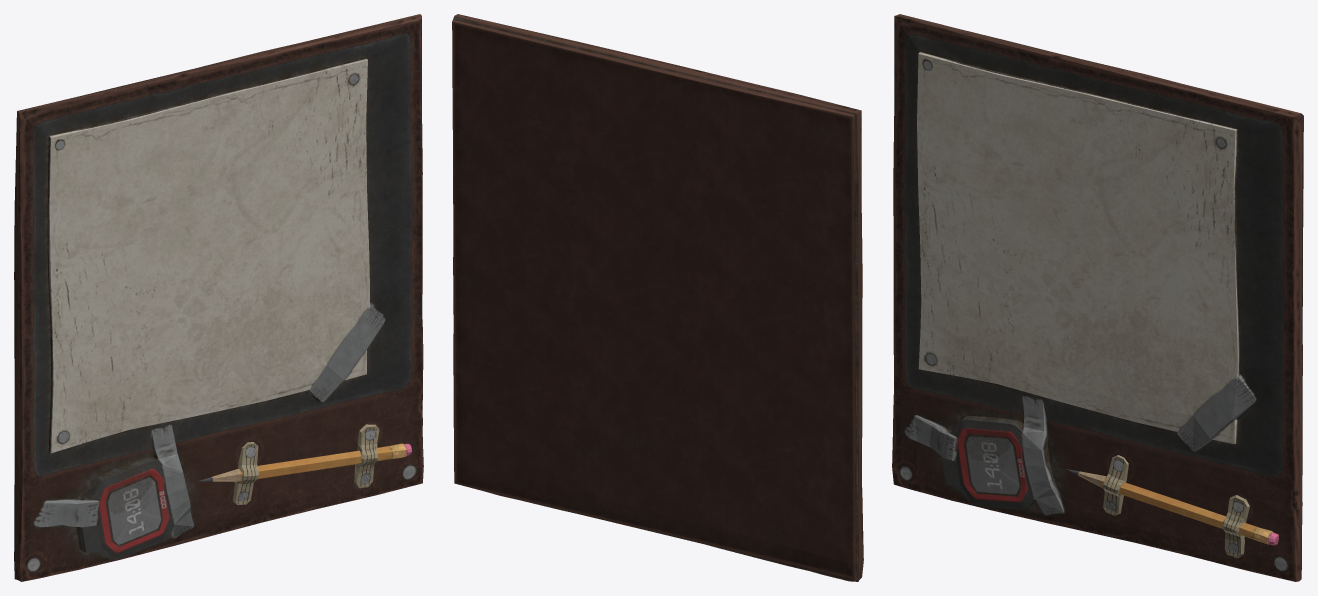
3 views of the same model, side by side, from view 1: azimuth 30°, elevation 25°; view 2: azimuth 150°, elevation 25°; view 3: azimuth 330°, elevation 25° (orthographic).
Visible parts, largest first — view 1: Object_0; view 2: Object_0; view 3: Object_0.
Part boxes in pixels (left/top/right/bottom): Object_0: left=14, top=14, right=423, bottom=581; Object_0: left=452, top=14, right=863, bottom=581; Object_0: left=892, top=14, right=1303, bottom=581.
Bounding box in the file's own units: 25.41 × 28.09 × 1.65.
